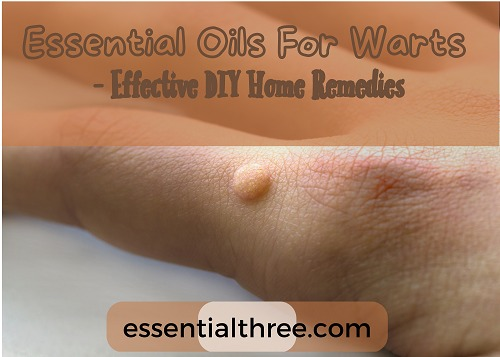Warts: (224, 153, 293, 222)
